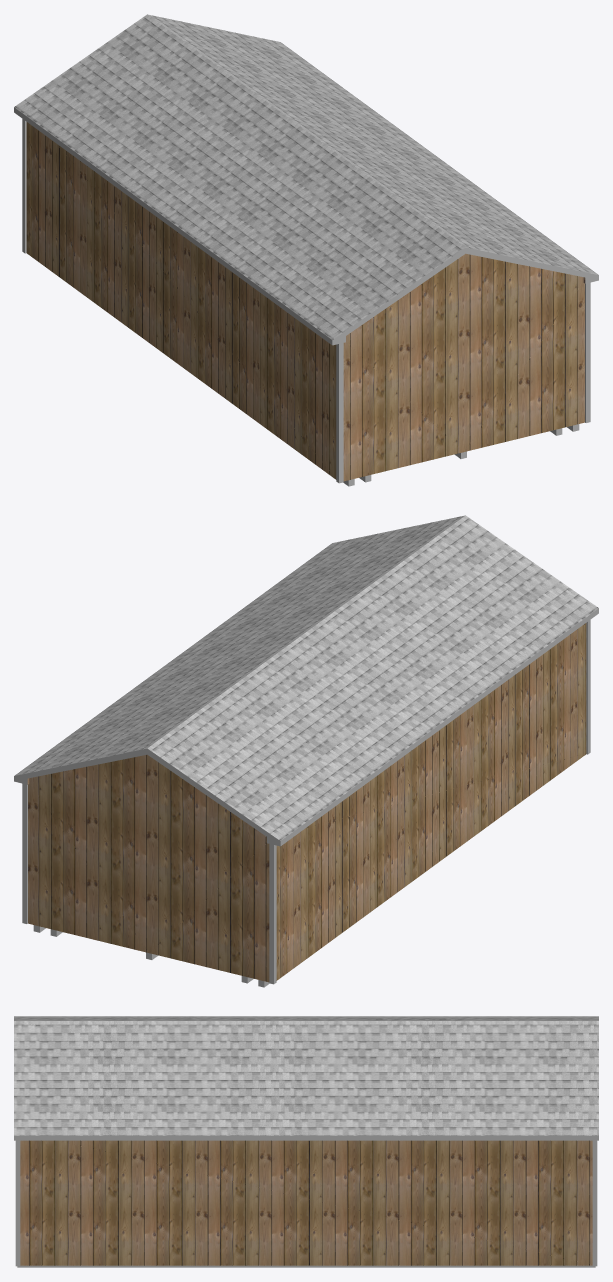
File: Single Garage A-frame_14x30.obj
3 views of the same model, one above another, from view 1: azimuth 30°, elevation 25°; view 2: azimuth 150°, elevation 25°; view 3: azimuth 270°, elevation 25° (orthographic). The views are drawn at different scales.
Visible parts, largest first — view 1: Roof, Shed, Sides, Trim; view 2: Roof, Shed, Sides, Trim; view 3: Shed, Roof, Sides, Floor, Trim.
Part boxes in pixels (left/top/right/bottom): Roof: left=14, top=14, right=598, bottom=339; Shed: left=26, top=122, right=585, bottom=481; Sides: left=14, top=107, right=598, bottom=345; Trim: left=22, top=119, right=590, bottom=483; Roof: left=14, top=515, right=598, bottom=840; Shed: left=27, top=623, right=586, bottom=982; Sides: left=14, top=608, right=598, bottom=846; Trim: left=22, top=620, right=590, bottom=984; Shed: left=20, top=1140, right=592, bottom=1265; Roof: left=14, top=1016, right=598, bottom=1135; Sides: left=14, top=1136, right=598, bottom=1140; Floor: left=17, top=1265, right=595, bottom=1267; Trim: left=15, top=1140, right=597, bottom=1266.
Size of the model in its own units: 4.47 by 3.4 by 9.25.
